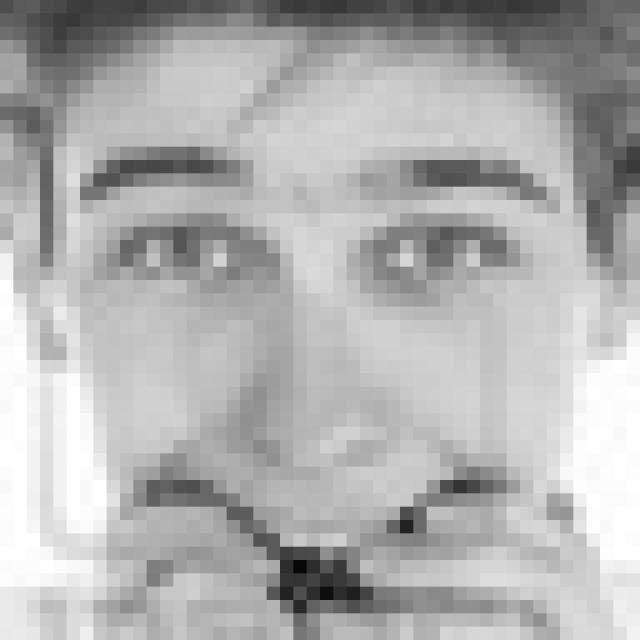fear: (70, 138, 571, 640)
